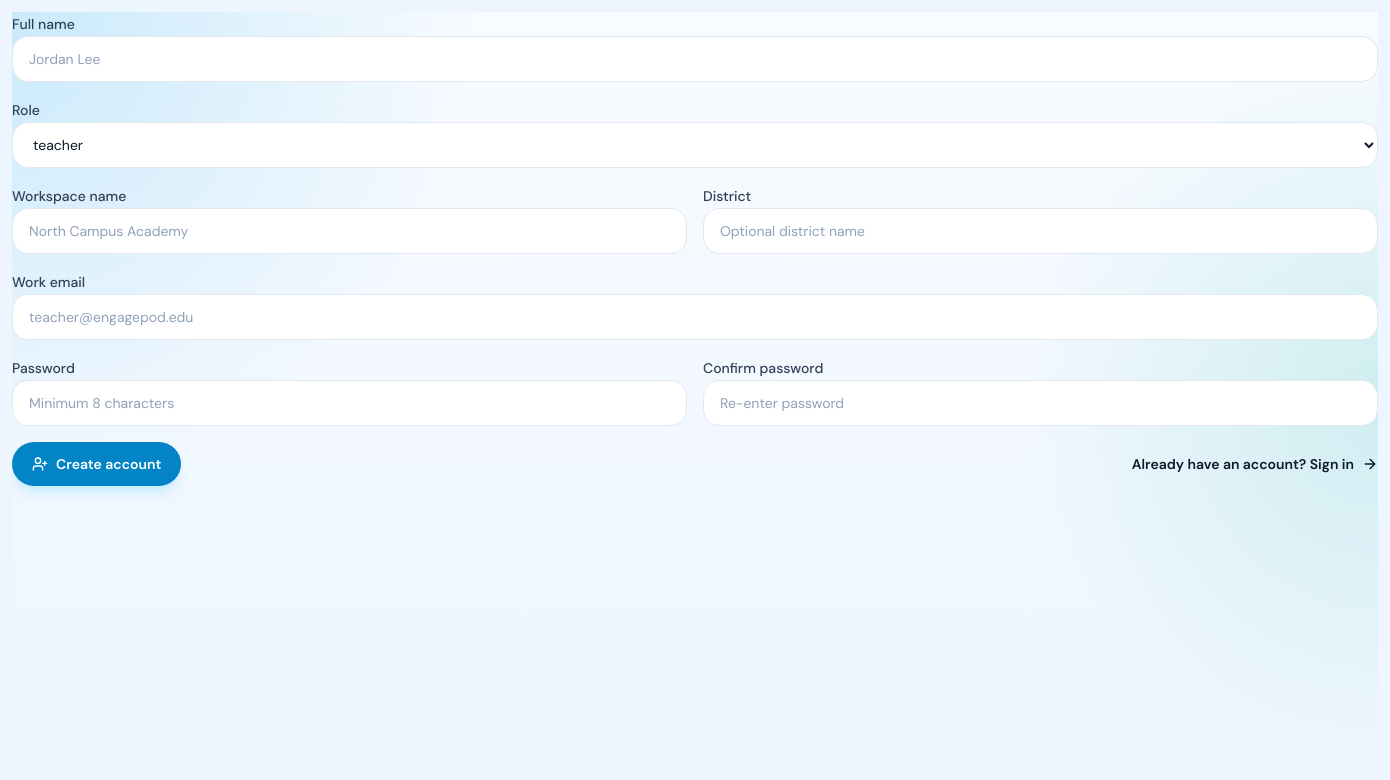
Test case: ui components › handles missing signup fields safely
The image size is (1390, 780).
Click the button "Create account" at (97,464), box [12,442,181,486]
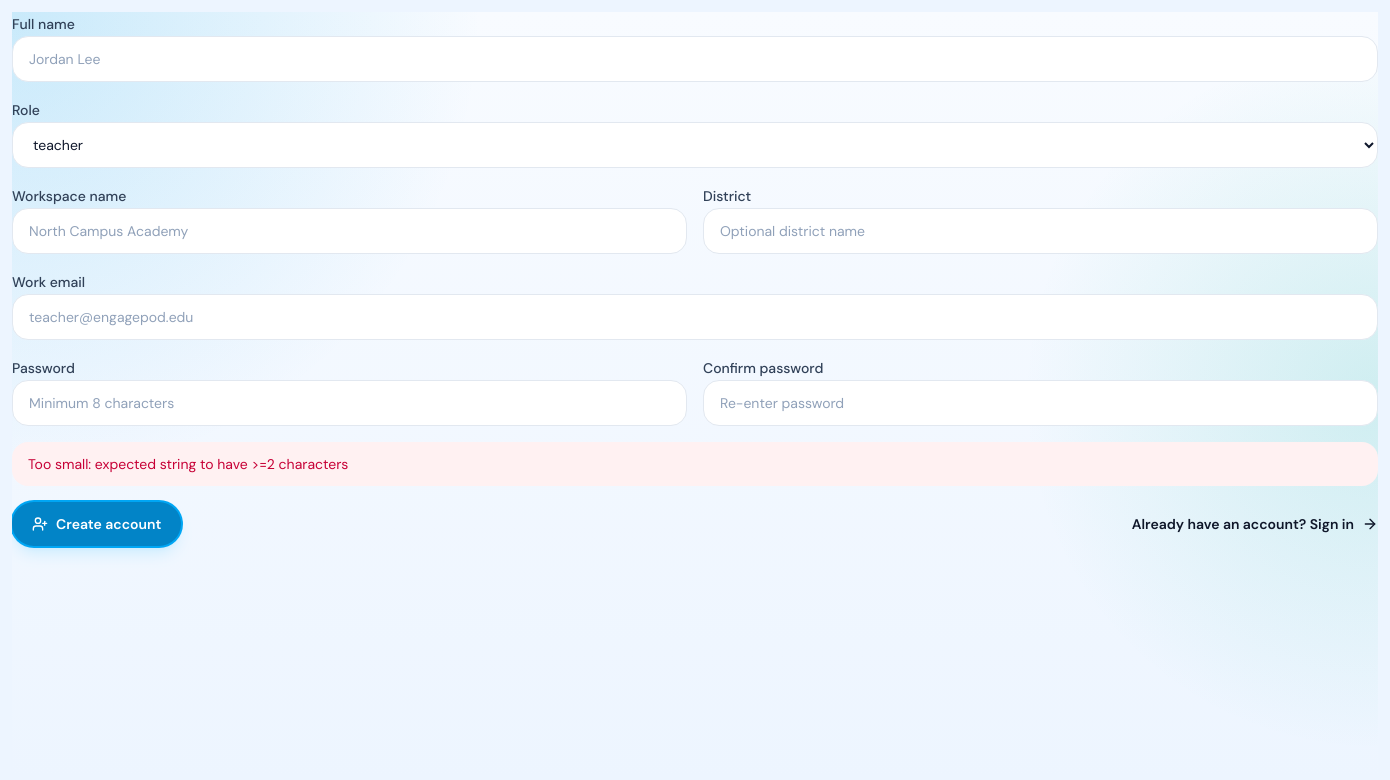
Now the text "Too small: expected string to have >=2 characters" is shown, box [12,442,1378,486]
